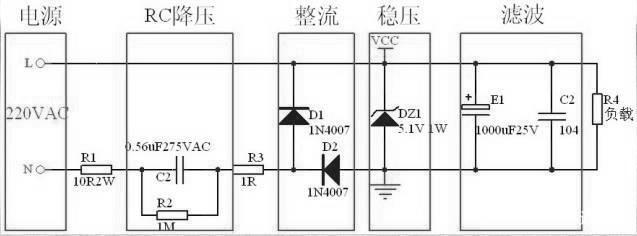cap1: (461, 93, 492, 118), (171, 155, 189, 186), (536, 107, 568, 124)
diode: (316, 152, 344, 186), (370, 102, 399, 133), (277, 102, 310, 128)
gnd: (369, 180, 403, 202)
res1: (591, 89, 605, 130), (152, 208, 191, 222), (77, 164, 117, 177), (230, 163, 267, 177)
